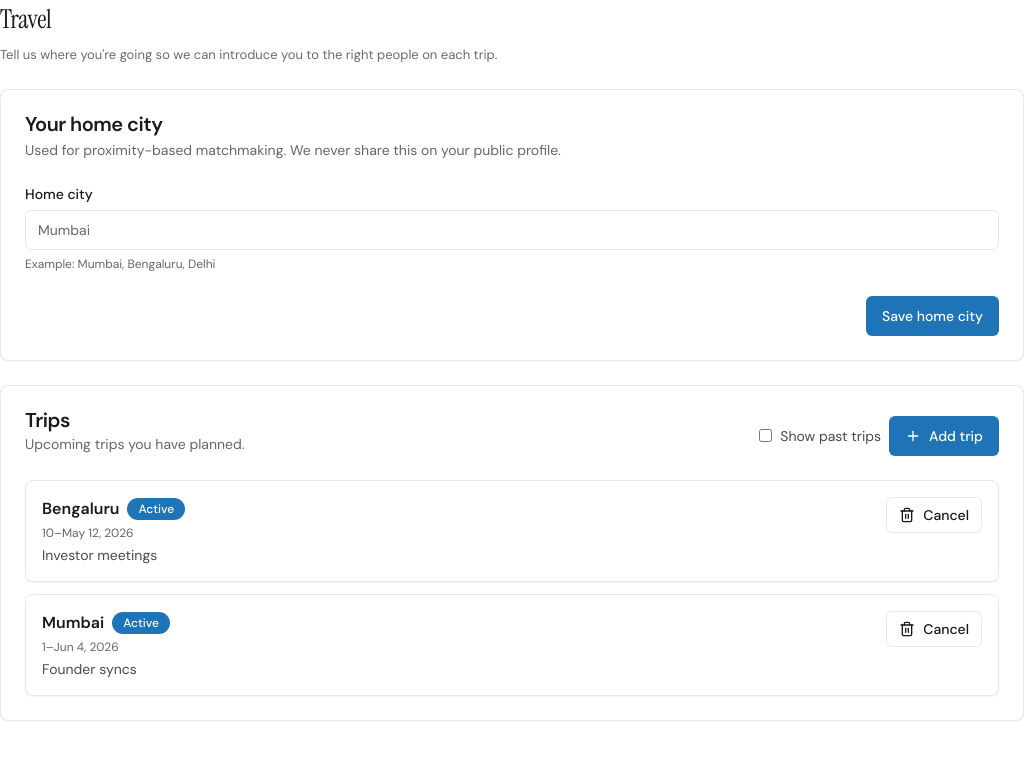
TravelPage › toggling "Show past trips" reveals the past trip
Expected: the list with test id "trip-list" is shown, [25,480,999,696]
Click the checkbox with test id "toggle-show-past" at [766, 436], box [759,429,772,442]
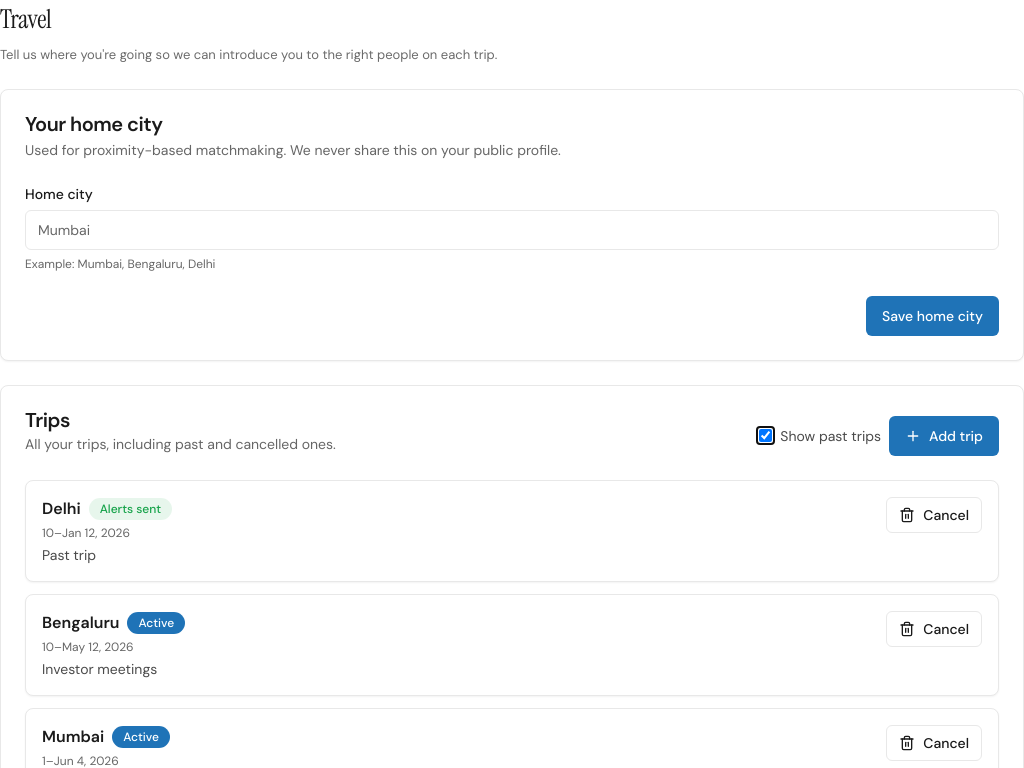
Result: the text "Delhi" is shown at [42,496,81,520]
